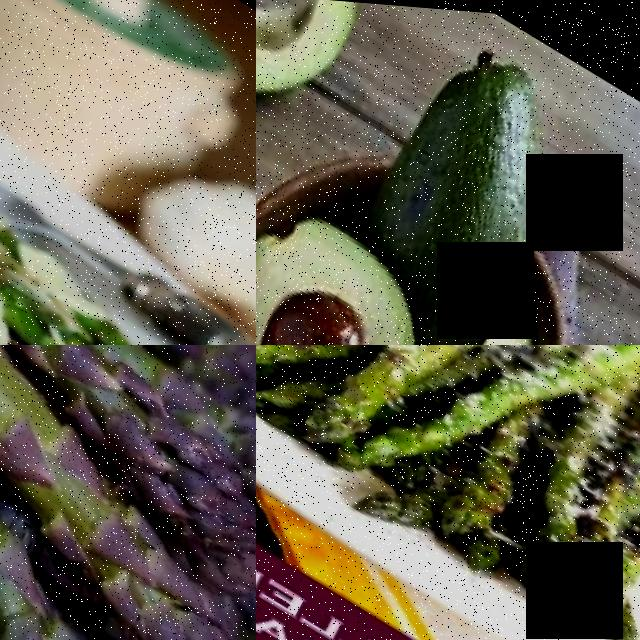asparagus: (0, 455, 256, 640), (57, 378, 256, 543), (354, 345, 506, 508), (0, 225, 205, 345), (500, 424, 633, 598), (278, 345, 452, 468), (420, 405, 550, 563), (594, 458, 640, 611), (256, 345, 307, 404)
avocado: (332, 2, 612, 345), (256, 181, 463, 345), (256, 0, 376, 182), (359, 266, 574, 345)
